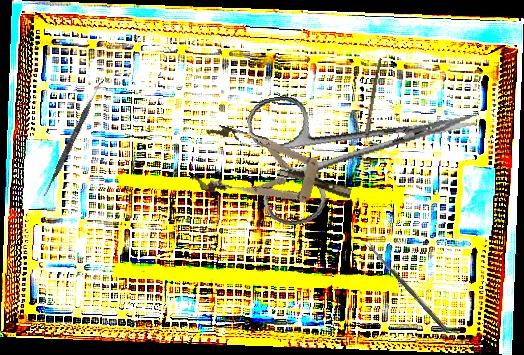Iris Scissors: (243, 60, 488, 231)
Spatula Surgical: (42, 76, 105, 199)
Speculum: (190, 121, 359, 228)
Surgical Spoon: (366, 241, 448, 332), (360, 57, 382, 164)
